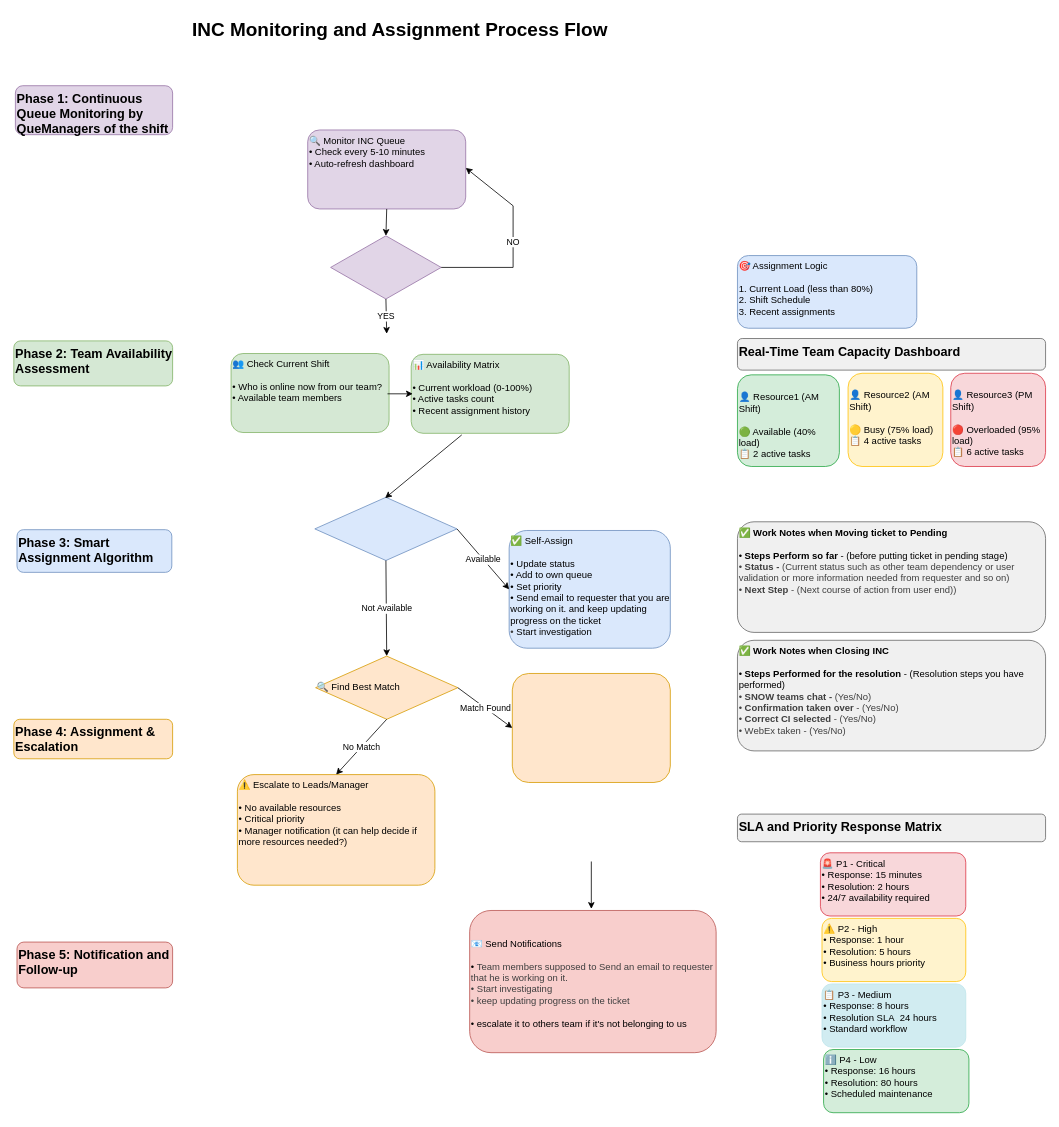
Some shapes in this 1059 by 1127 pixel diagram are drawn without their labels. Each missing label, with the centre of its shape:
"👤 Assign to Team Member • Send notification in teams chat • Add to their queue" goes at (x=591, y=727).
"🚨 New INC Detected?" goes at (x=385, y=267).
"🤔 Check Own Queue and Availability" goes at (x=385, y=529).
